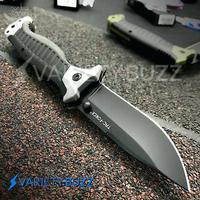knife: (4, 14, 191, 195)
